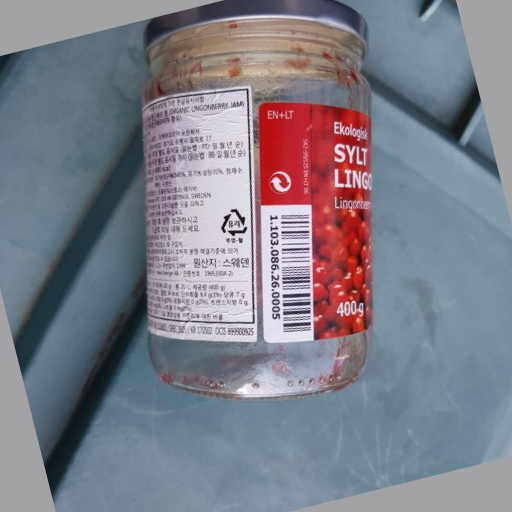Glass_5: (135, 4, 380, 403)
